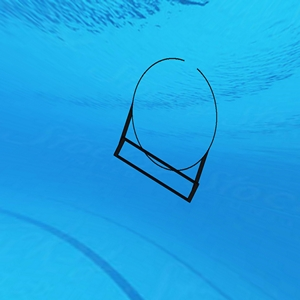circle: (112, 55, 227, 207)
